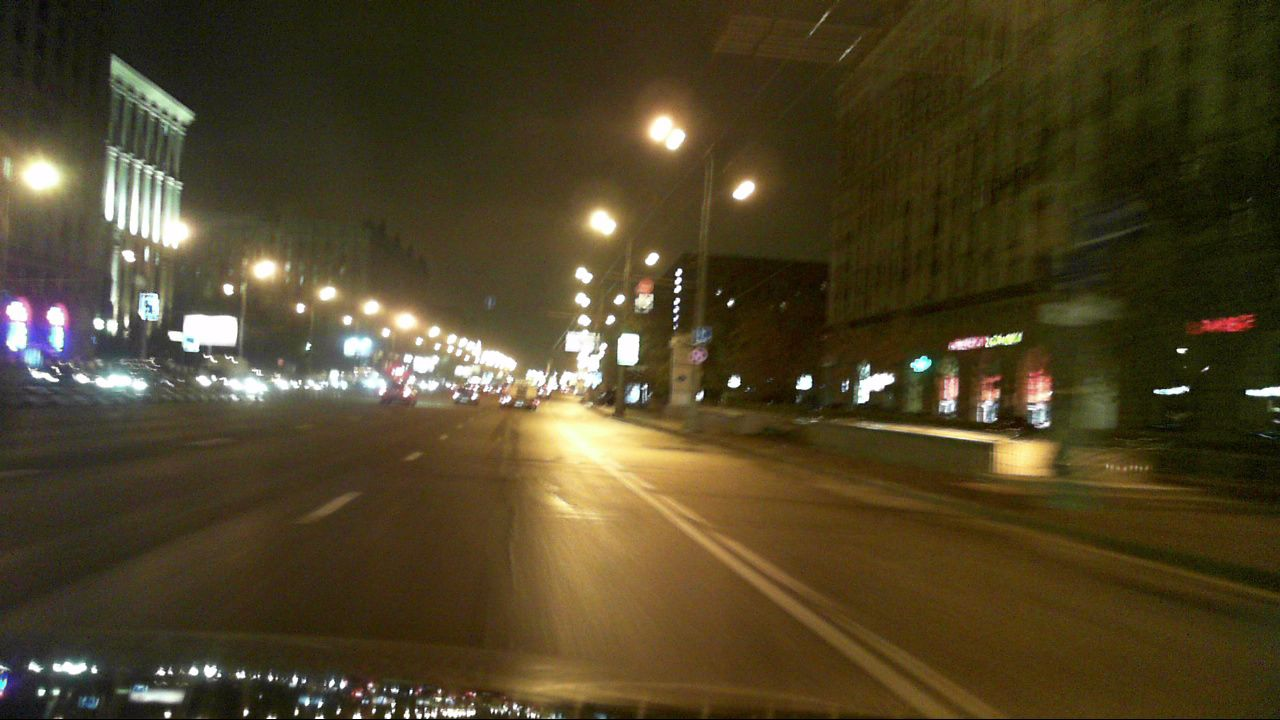No Parking: (691, 345, 708, 362)
